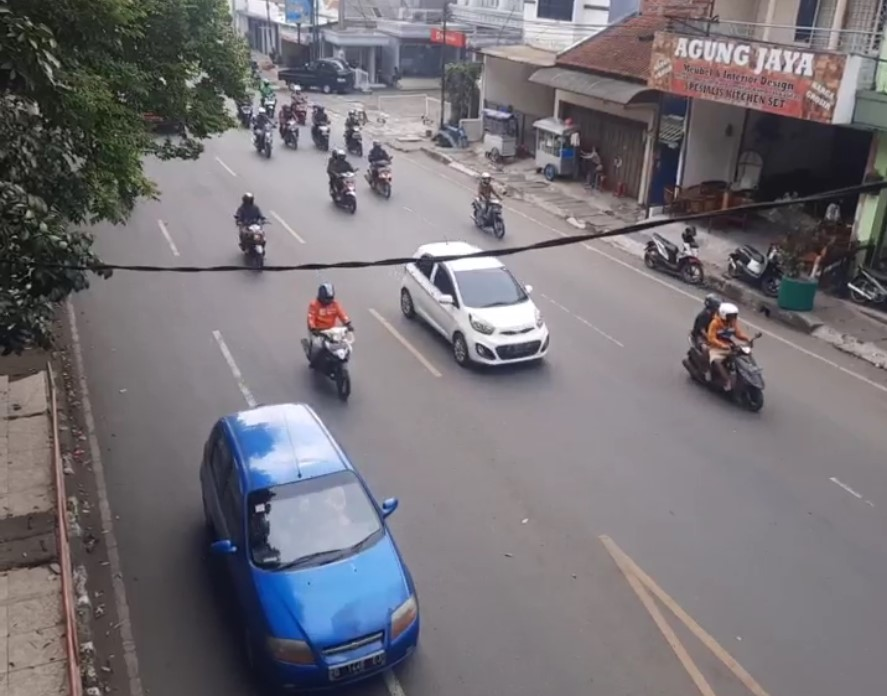mobil: (194, 403, 436, 693), (397, 239, 557, 376)
motor: (683, 293, 774, 413), (303, 282, 361, 395), (229, 193, 273, 273), (321, 149, 363, 214), (470, 170, 509, 237), (365, 141, 398, 200)
